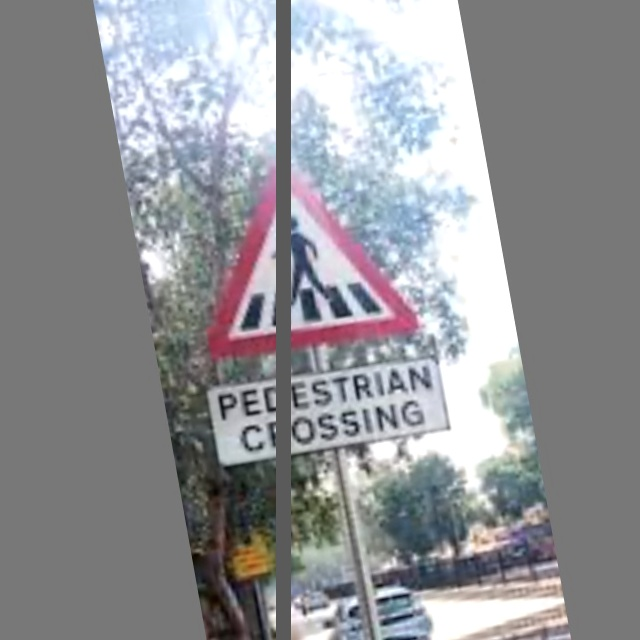Pedestrian_Crossing: (181, 136, 429, 362)
